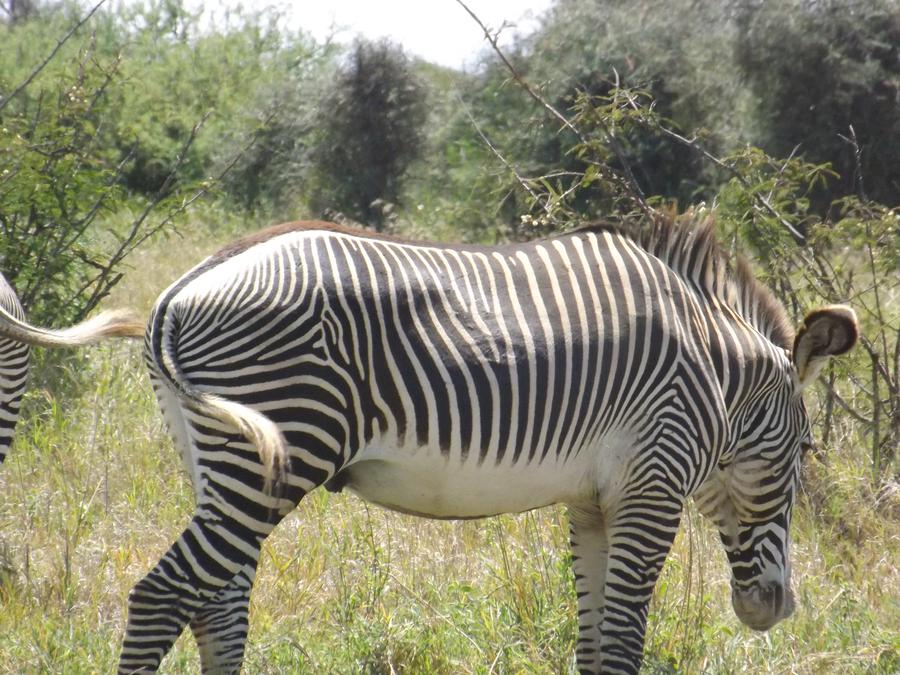zebra_grevys: (173, 211, 689, 507)
